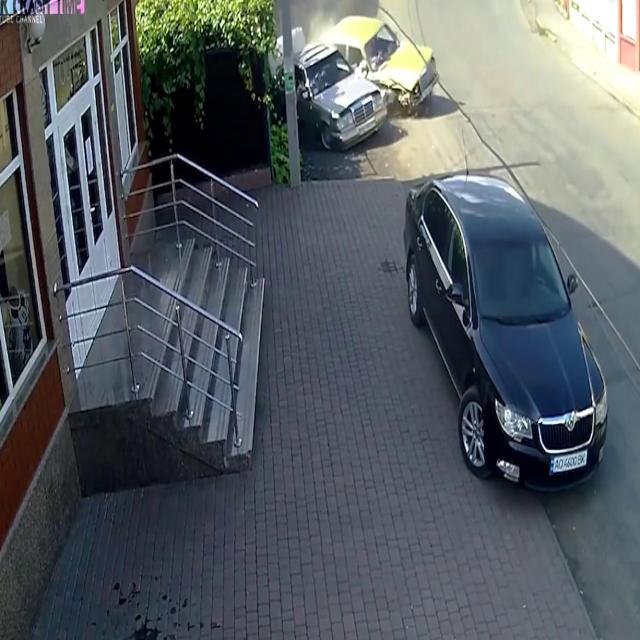accident: (294, 9, 446, 157)
